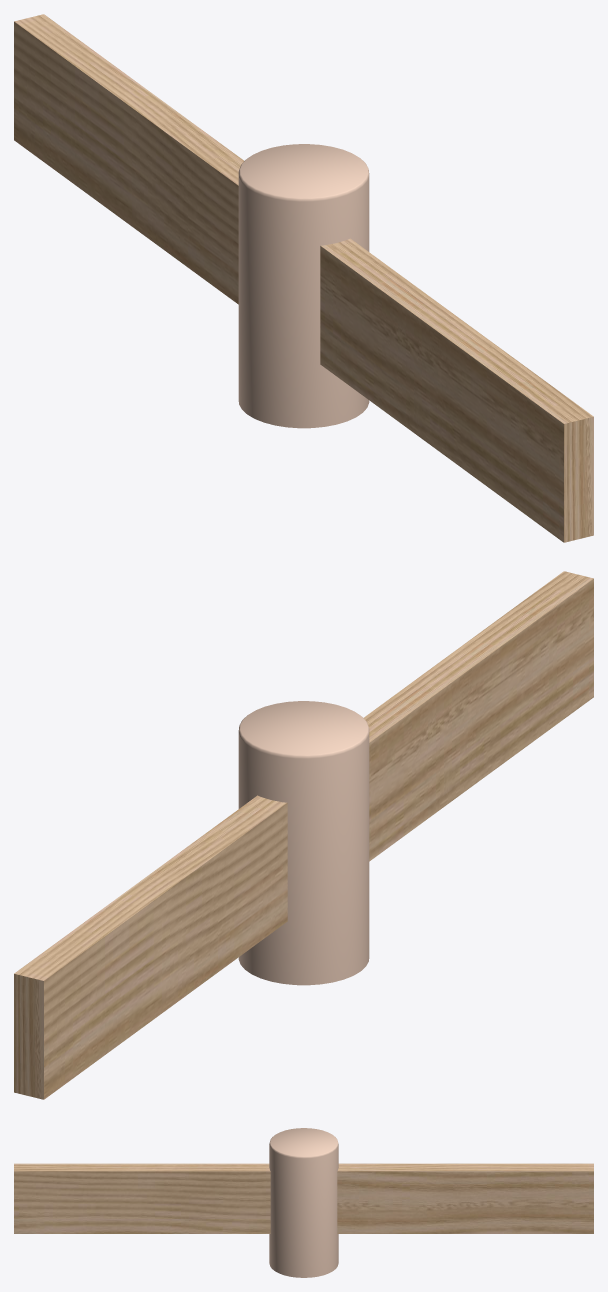
File: swingyDealy.glb
The picture shows the model from 3 angles, top to bottom: view 1: azimuth 30°, elevation 25°; view 2: azimuth 150°, elevation 25°; view 3: azimuth 270°, elevation 25°; orthographic projection. The views are drawn at different scales.
Parts seen in each view (by area): view 1: swingyTop; view 2: swingyTop; view 3: swingyTop.
Boxes of the visible parts, bbox=[...] form: swingyTop: bbox=[14, 14, 593, 542]; swingyTop: bbox=[14, 571, 593, 1099]; swingyTop: bbox=[14, 1128, 593, 1277].
Bounding box in the file's own units: 2 × 3.87 × 16.78.
1 material, 1 textured.
